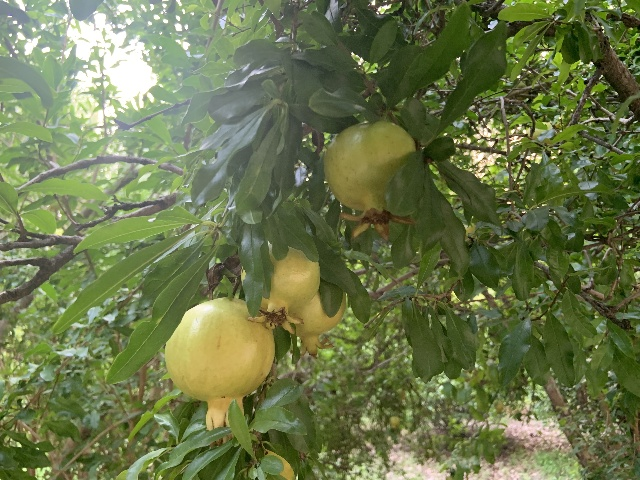mid-growth: (164, 296, 274, 441), (323, 120, 418, 242), (240, 241, 320, 333), (288, 290, 346, 359)
